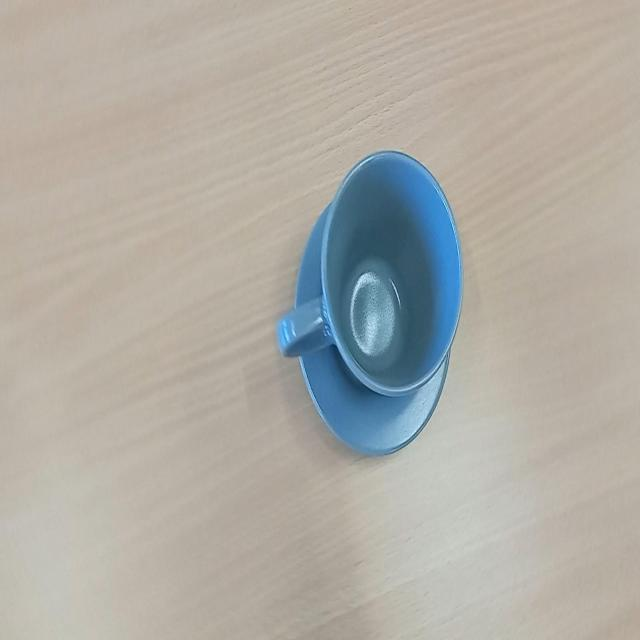cup: (278, 142, 468, 458)
